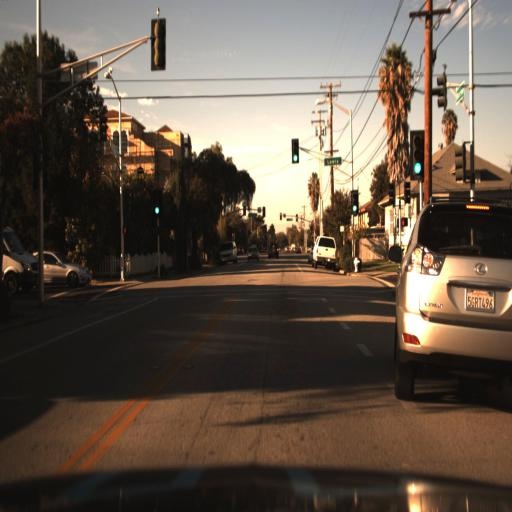car: (389, 196, 512, 406), (0, 224, 45, 282), (36, 248, 89, 289), (311, 233, 336, 270), (219, 238, 237, 265), (266, 240, 282, 262)
trafficLight-Green: (410, 131, 422, 183), (290, 136, 301, 165), (157, 186, 167, 217), (412, 152, 422, 179), (350, 187, 358, 217), (153, 201, 163, 221), (290, 152, 300, 168)
